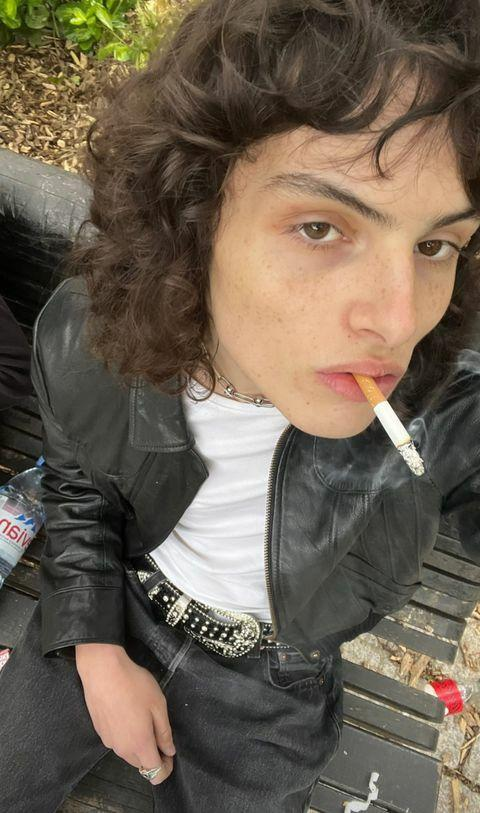cigarette: (353, 377, 429, 479)
